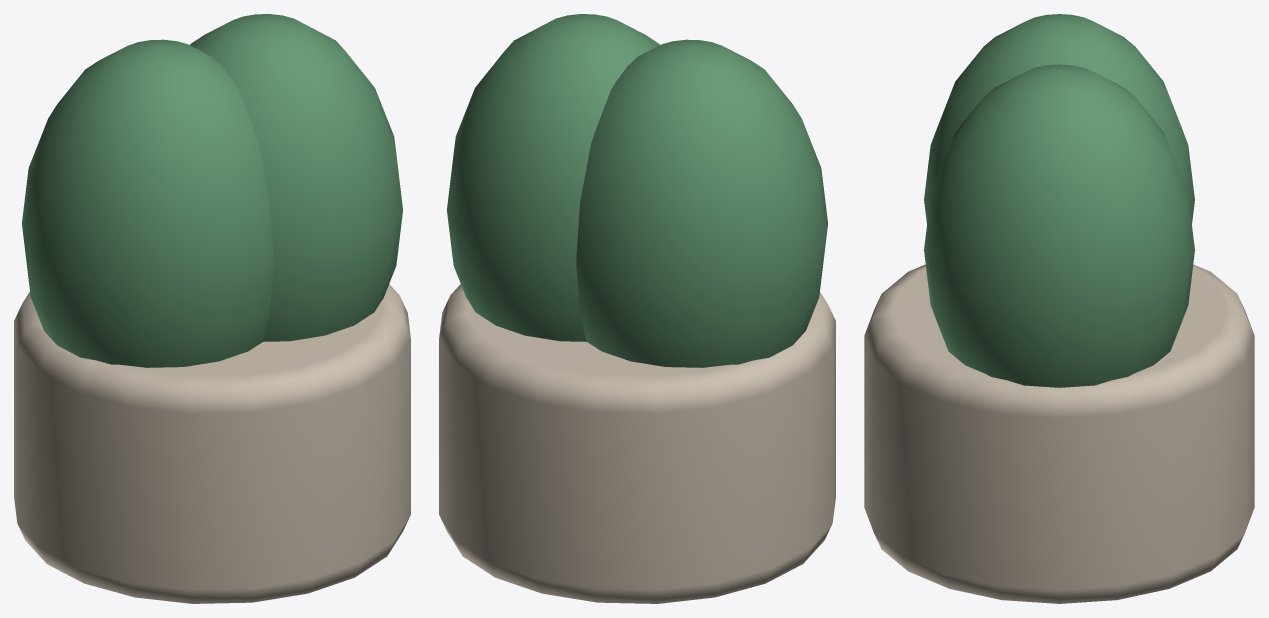
3 renders of one model, left to right at view 1: azimuth 30°, elevation 25°; view 2: azimuth 150°, elevation 25°; view 3: azimuth 270°, elevation 25°, orthographic. The views are drawn at different scales.
Parts seen in each view (by area): view 1: LOD1_PLANTER_ROUND_Pot, LOD1_PLANTER_ROUND_Crown_02, LOD1_PLANTER_ROUND_Crown_01; view 2: LOD1_PLANTER_ROUND_Pot, LOD1_PLANTER_ROUND_Crown_02, LOD1_PLANTER_ROUND_Crown_01; view 3: LOD1_PLANTER_ROUND_Pot, LOD1_PLANTER_ROUND_Crown_01, LOD1_PLANTER_ROUND_Crown_02.
Part boxes in pixels (bbox=[...]): LOD1_PLANTER_ROUND_Pot: bbox=[14, 284, 410, 603]; LOD1_PLANTER_ROUND_Crown_02: bbox=[22, 39, 273, 367]; LOD1_PLANTER_ROUND_Crown_01: bbox=[190, 14, 402, 341]; LOD1_PLANTER_ROUND_Pot: bbox=[439, 284, 835, 603]; LOD1_PLANTER_ROUND_Crown_02: bbox=[576, 39, 827, 367]; LOD1_PLANTER_ROUND_Crown_01: bbox=[447, 14, 659, 341]; LOD1_PLANTER_ROUND_Pot: bbox=[864, 264, 1254, 603]; LOD1_PLANTER_ROUND_Crown_01: bbox=[924, 64, 1194, 387]; LOD1_PLANTER_ROUND_Crown_02: bbox=[924, 14, 1194, 223].
Size of what is drawn, in the model's own units: 1.44 by 1.97 by 1.44.
